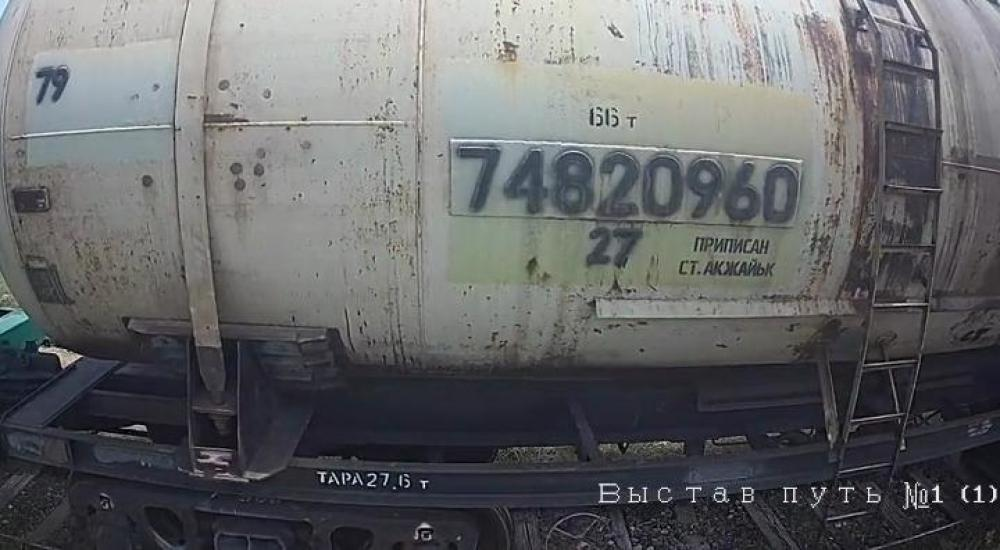Wagon-number: (453, 138, 801, 226)
